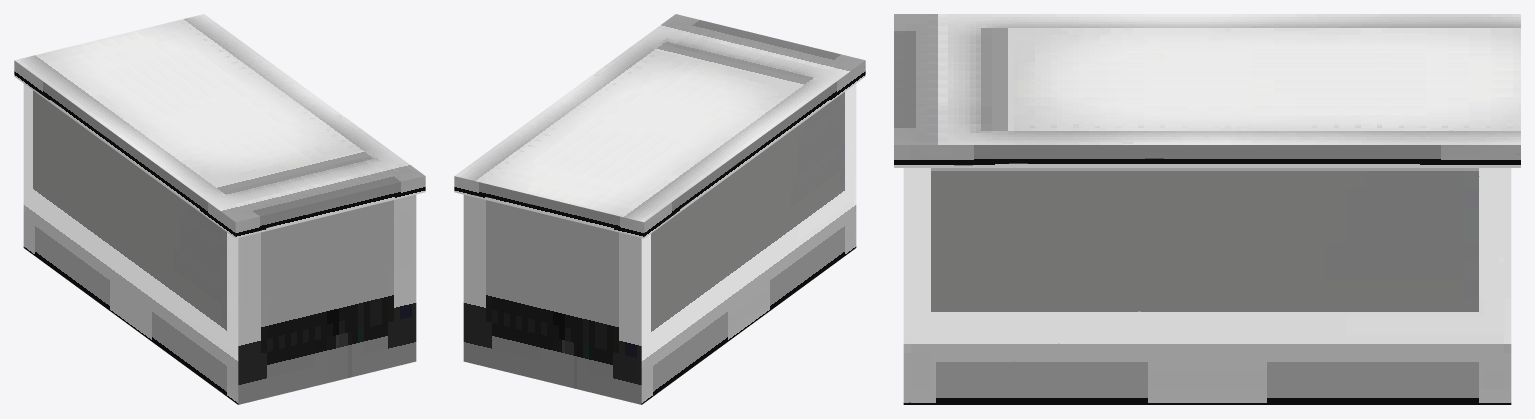
Rendered from Building_Sarcophagus__Full.glb.
3 renders of one model, left to right at view 1: azimuth 30°, elevation 25°; view 2: azimuth 150°, elevation 25°; view 3: azimuth 270°, elevation 25°, orthographic. The views are drawn at different scales.
Parts seen in each view (by area): view 1: Sarcophagus__Full; view 2: Sarcophagus__Full; view 3: Sarcophagus__Full.
Part boxes in pixels (box(x1,y1,x2,y2)): Sarcophagus__Full: box(14, 14, 425, 404); Sarcophagus__Full: box(454, 14, 865, 404); Sarcophagus__Full: box(894, 14, 1520, 404).
Bounding box in the file's own units: 0.98 × 0.92 × 1.98.
Materials: 1 (1 with a texture image).
